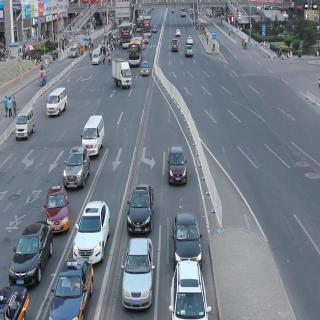BigCar: (126, 38, 144, 68), (120, 26, 133, 48)
Car: (50, 256, 93, 320), (168, 260, 210, 320), (10, 220, 48, 286), (122, 235, 154, 313), (73, 198, 108, 266), (170, 208, 204, 268), (126, 182, 156, 238), (43, 184, 70, 233), (0, 279, 31, 320), (64, 144, 90, 192), (82, 112, 106, 158), (167, 140, 187, 188), (14, 108, 36, 144), (46, 83, 67, 120), (110, 56, 132, 91), (140, 58, 150, 78), (92, 51, 102, 66), (171, 36, 180, 52), (185, 42, 193, 58), (69, 46, 78, 58), (187, 33, 194, 46), (175, 26, 182, 36)
